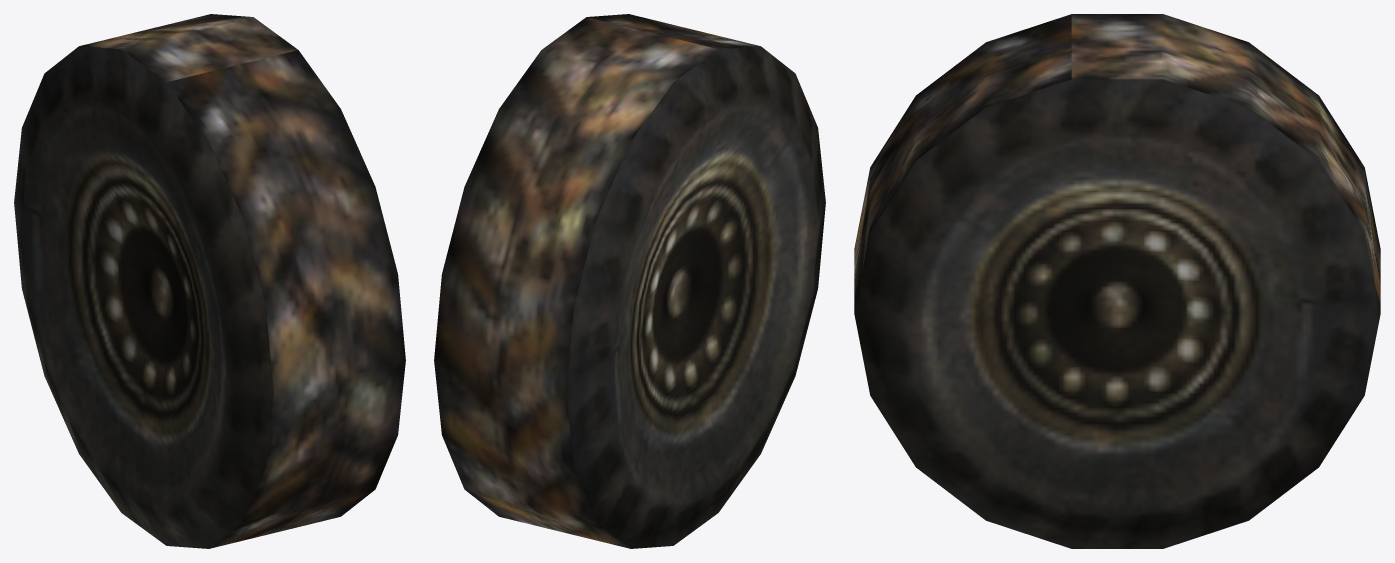
File: guncar_wheel.obj
3 views of the same model, side by side, from view 1: azimuth 30°, elevation 25°; view 2: azimuth 150°, elevation 25°; view 3: azimuth 270°, elevation 25° (orthographic).
Parts seen in each view (by area): view 1: wheel_Cylinder01x.017; view 2: wheel_Cylinder01x.017; view 3: wheel_Cylinder01x.017.
Part boxes in pixels (x1=…): wheel_Cylinder01x.017: x1=14, y1=14, x2=405, y2=548; wheel_Cylinder01x.017: x1=434, y1=14, x2=825, y2=548; wheel_Cylinder01x.017: x1=854, y1=14, x2=1380, y2=548.
Size of the model in its own units: 0.7576 by 2 by 2.03.
1 material, 1 textured.
